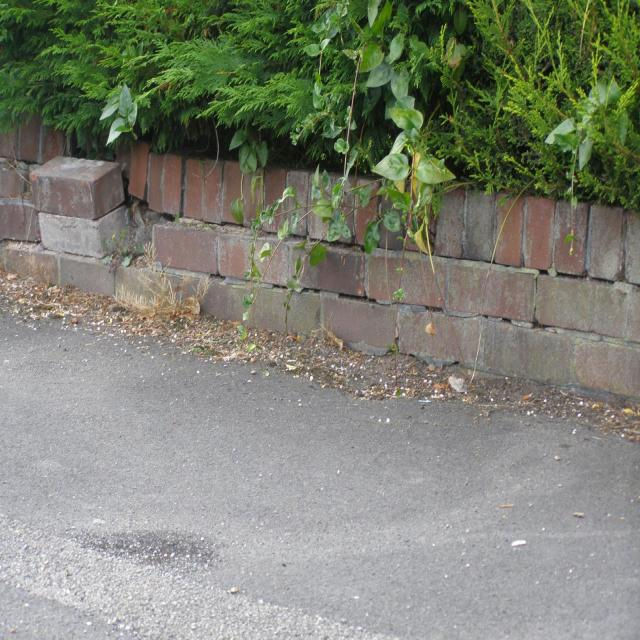unstable: (6, 116, 315, 304), (412, 193, 637, 394)
